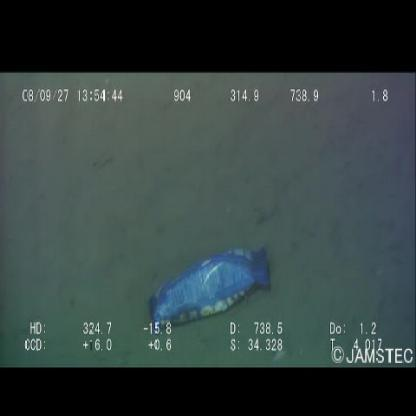Rác: (142, 236, 278, 343)
